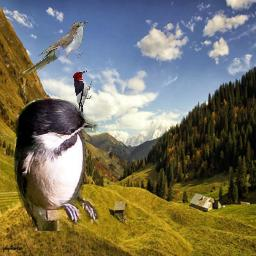Cuckoo: (22, 21, 89, 74)
Swallow: (11, 94, 102, 231)
Woodpecker: (73, 70, 92, 116)
